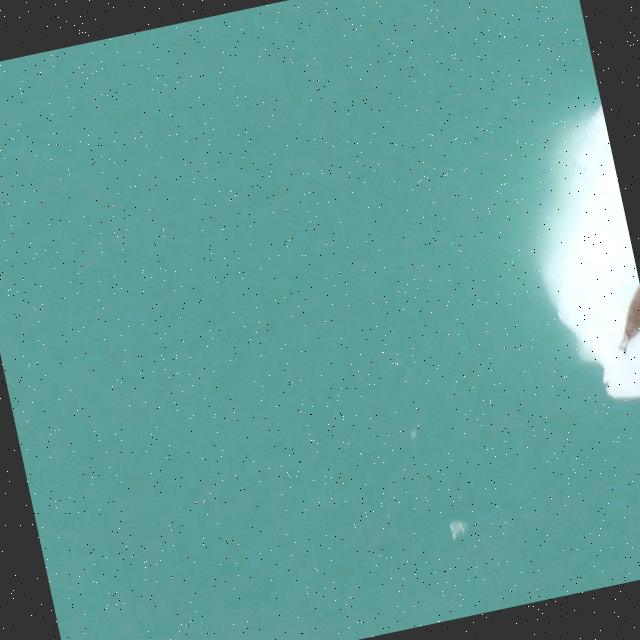seal: (615, 282, 640, 352)
